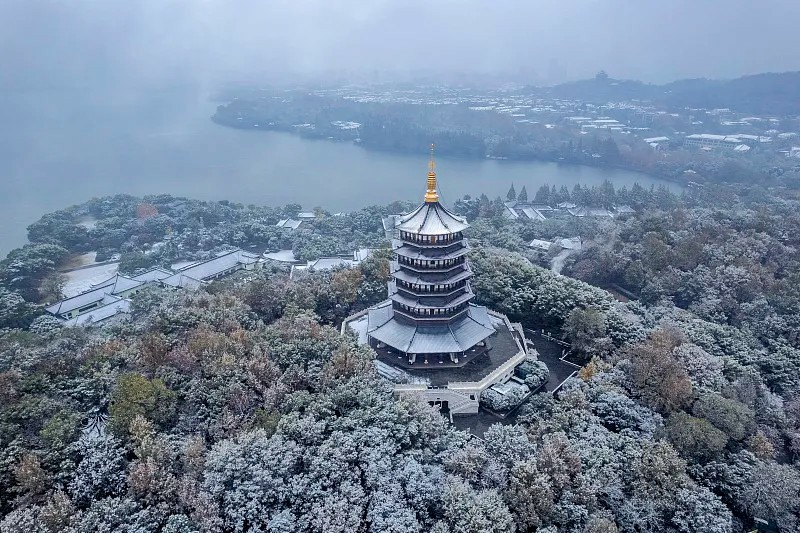Leifeng: (365, 141, 497, 372)
